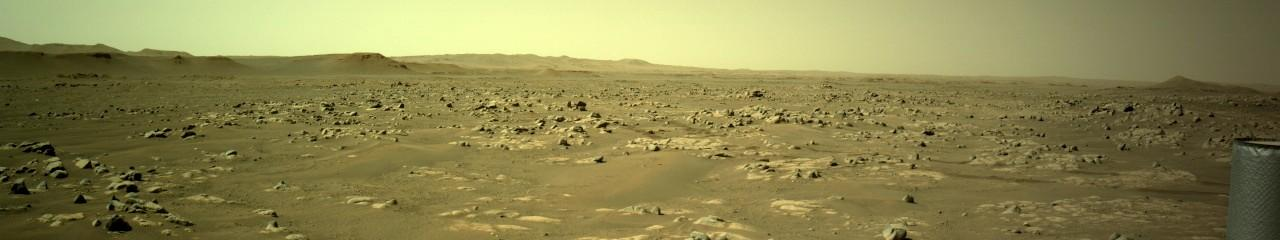bedrock: (19, 72, 1267, 239), (626, 134, 731, 150), (946, 174, 951, 178), (900, 227, 911, 228)
big_rock: (1, 136, 18, 228), (871, 234, 922, 238)
sand: (11, 28, 547, 81), (306, 231, 407, 238), (414, 232, 451, 233)
soil: (117, 68, 581, 91), (16, 227, 190, 239), (845, 234, 868, 239)
